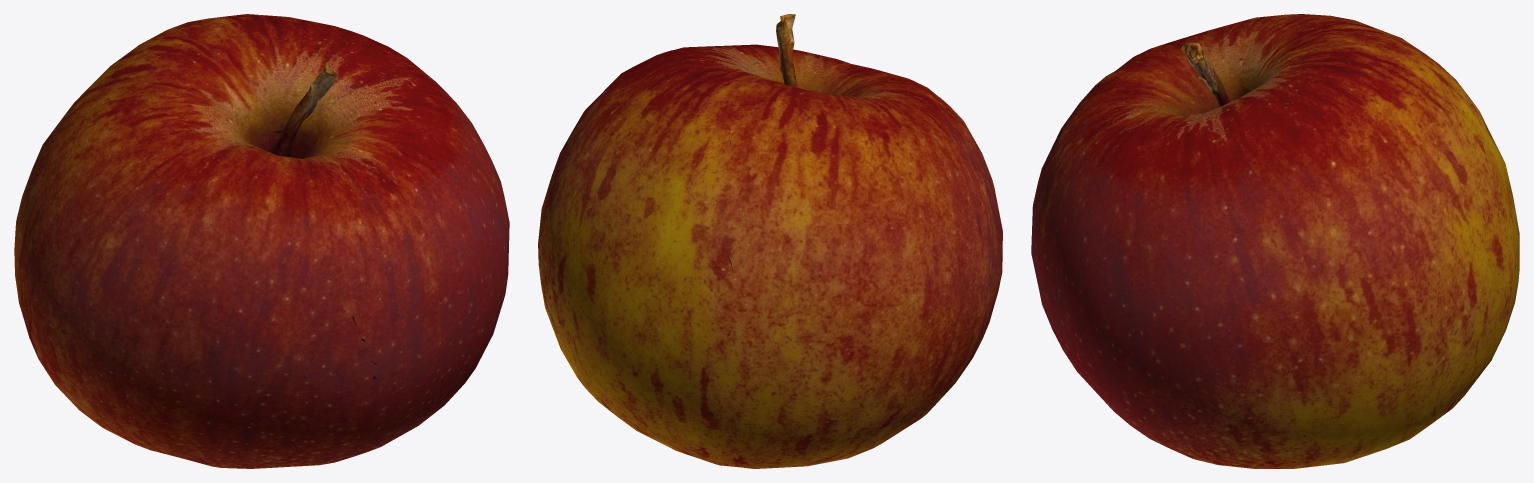
Rendered from food_apple_01.glb.
3 renders of one model, left to right at view 1: azimuth 30°, elevation 25°; view 2: azimuth 150°, elevation 25°; view 3: azimuth 270°, elevation 25°, orthographic. The views are drawn at different scales.
Visible parts, largest first — view 1: food_apple_01; view 2: food_apple_01; view 3: food_apple_01.
Part boxes in pixels (x1=…): food_apple_01: x1=14, y1=14, x2=509, y2=468; food_apple_01: x1=538, y1=14, x2=1002, y2=468; food_apple_01: x1=1031, y1=14, x2=1519, y2=468.
Size of the model in its own units: 0.0976 by 0.0854 by 0.0958.
Materials: 1 (1 with a texture image).
